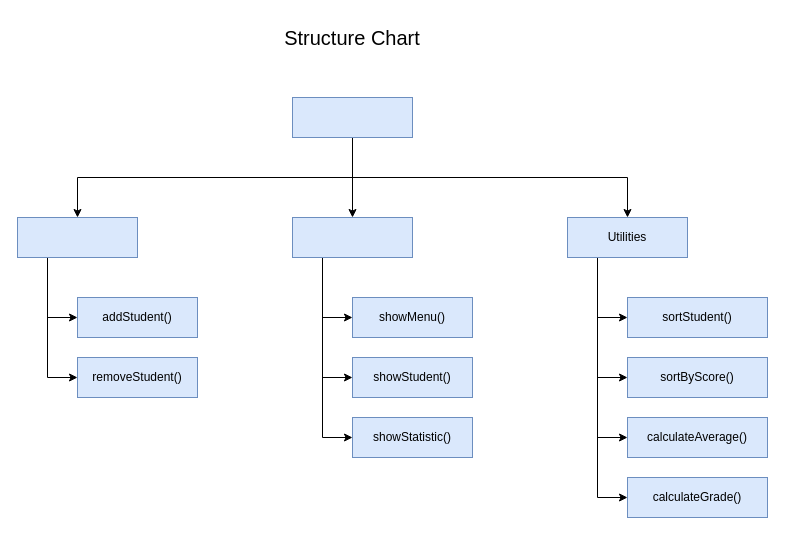
Some shapes in this 785 by 535 pixel diagram are drawn without their labels. The centre of each missing label's shape, as x and y in pixels:
main: the point at 352,117
Management: the point at 77,237
Output to Display: the point at 352,237
